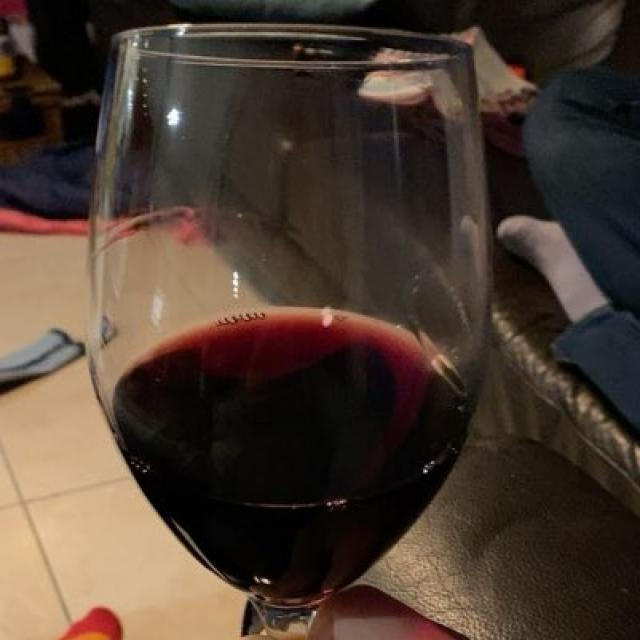wine: (113, 305, 460, 577)
